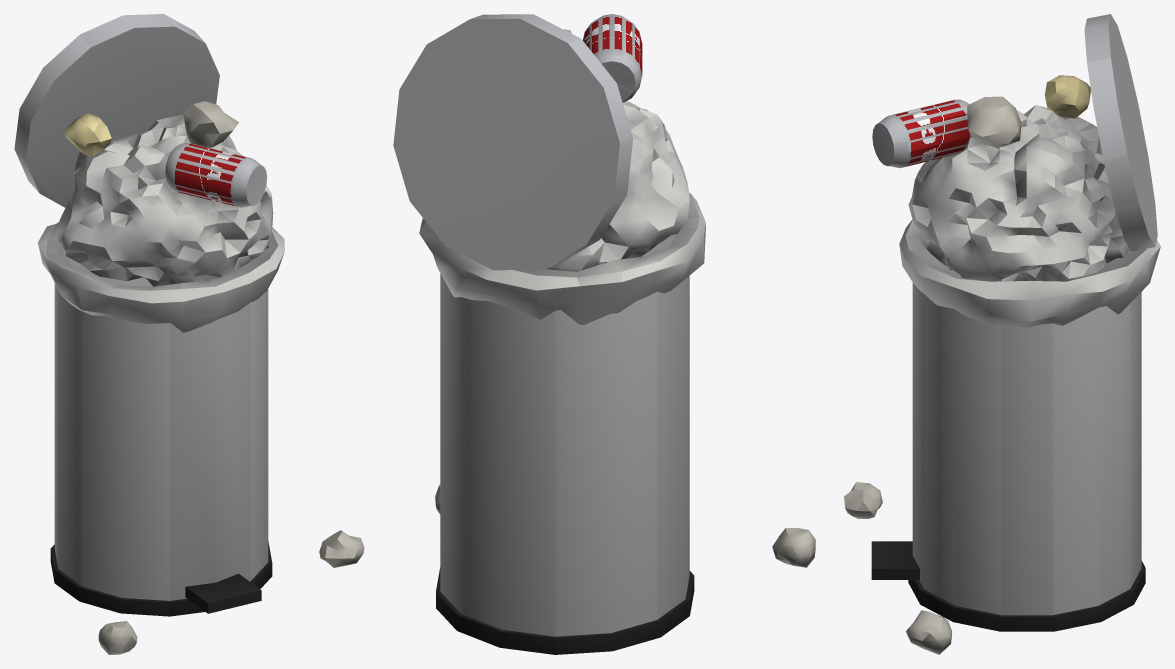
File: trash_bin_full.glb
3 views of the same model, side by side, from view 1: azimuth 30°, elevation 25°; view 2: azimuth 150°, elevation 25°; view 3: azimuth 270°, elevation 25° (orthographic). The views are drawn at different scales.
Parts seen in each view (by area): view 1: body, panels; view 2: body, panels; view 3: body, panels.
Boxes of the visible parts, x1,y1,x2,y2 form: body: (14, 14, 364, 654); panels: (173, 143, 252, 206); body: (393, 14, 815, 654); panels: (583, 16, 642, 75); body: (844, 14, 1160, 654); panels: (887, 100, 971, 167).
Size of what is drawn, in the model's own units: 0.435 by 0.7518 by 0.3873.
7 materials, 1 textured.
